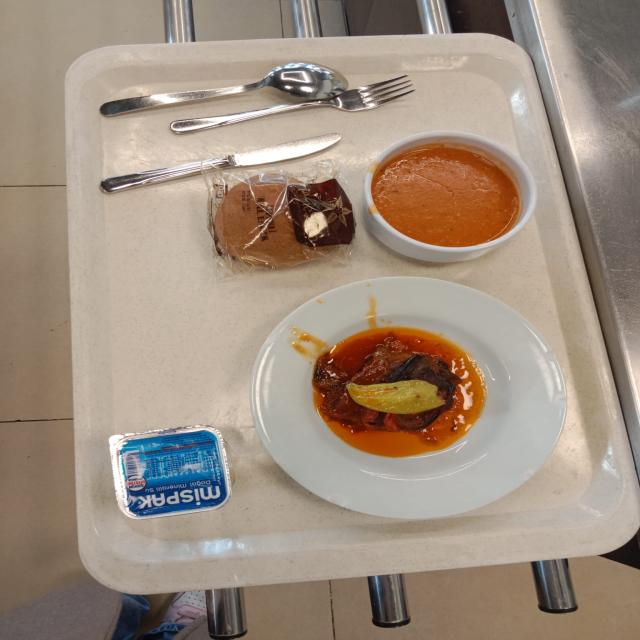ana_yemek: (250, 291, 554, 511)
corba: (361, 130, 531, 259)
